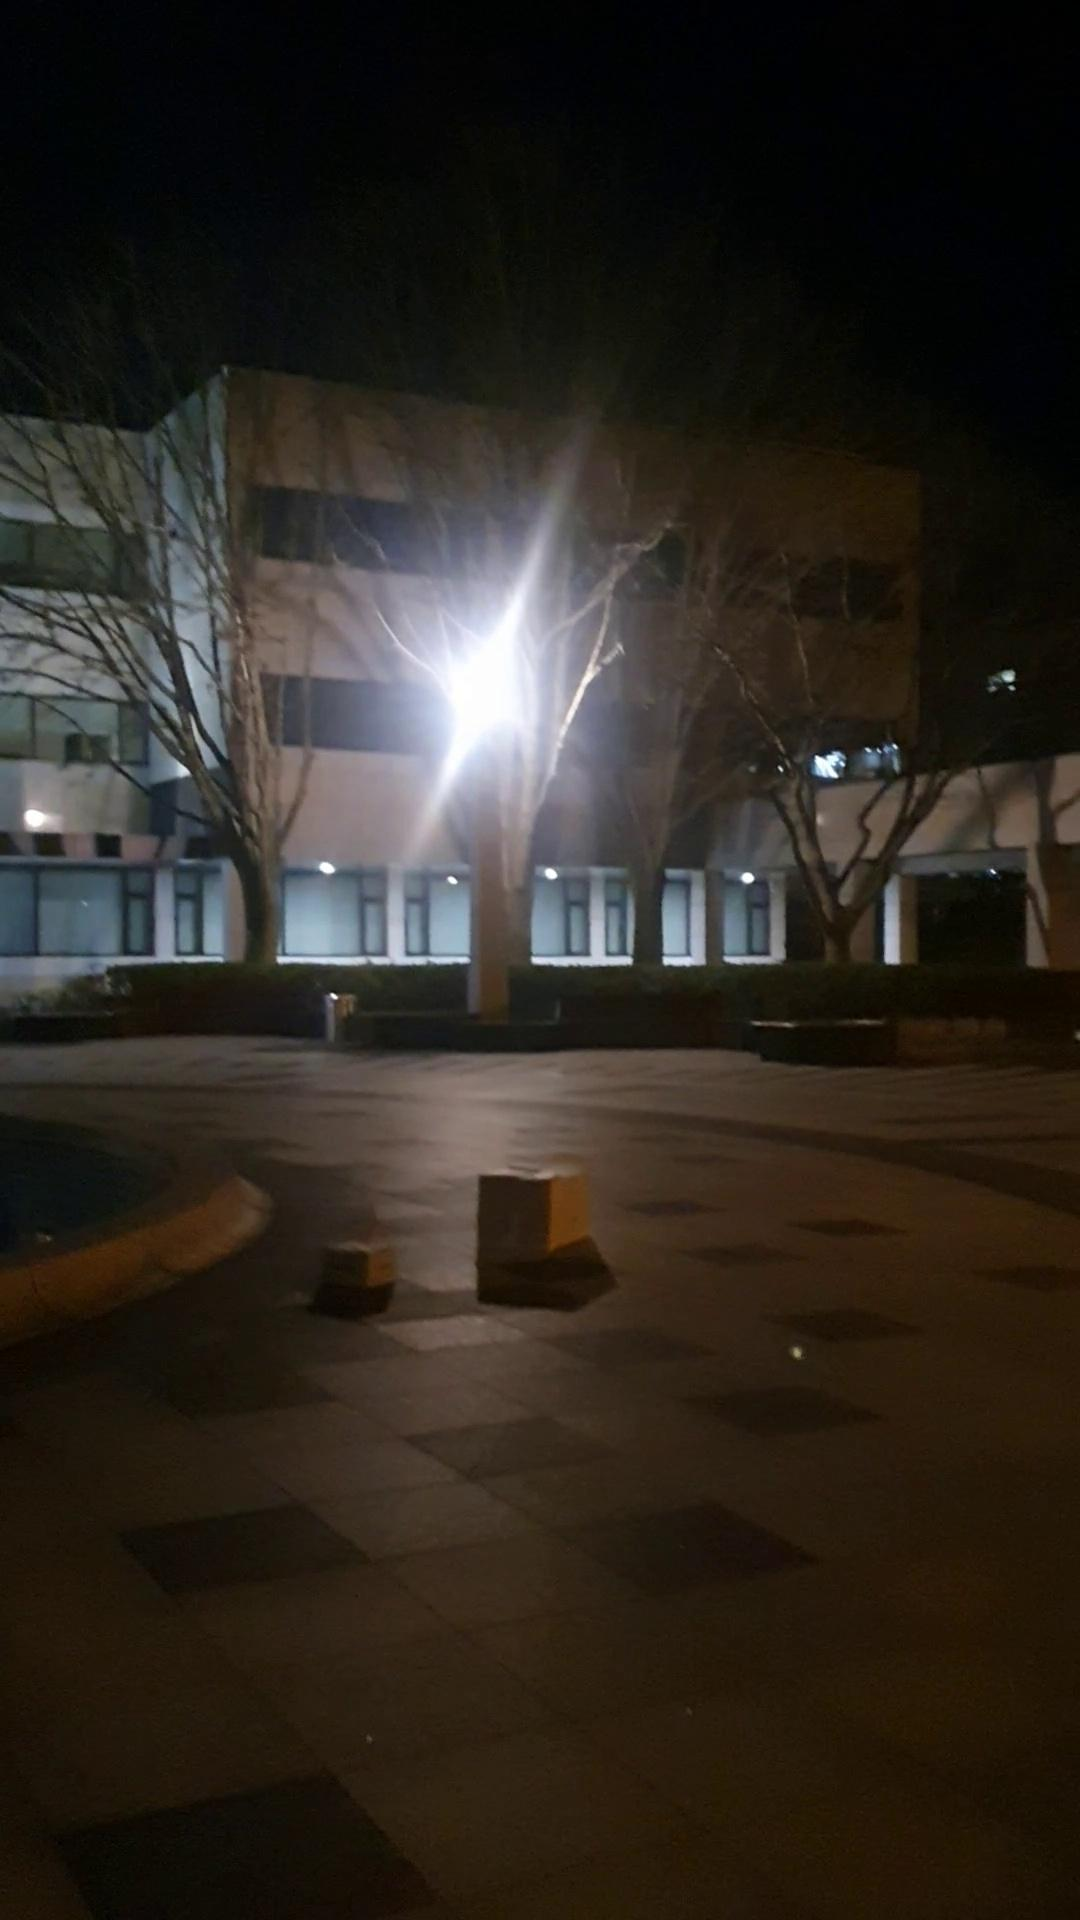Box: (473, 1158, 595, 1283), (318, 1233, 392, 1290)
